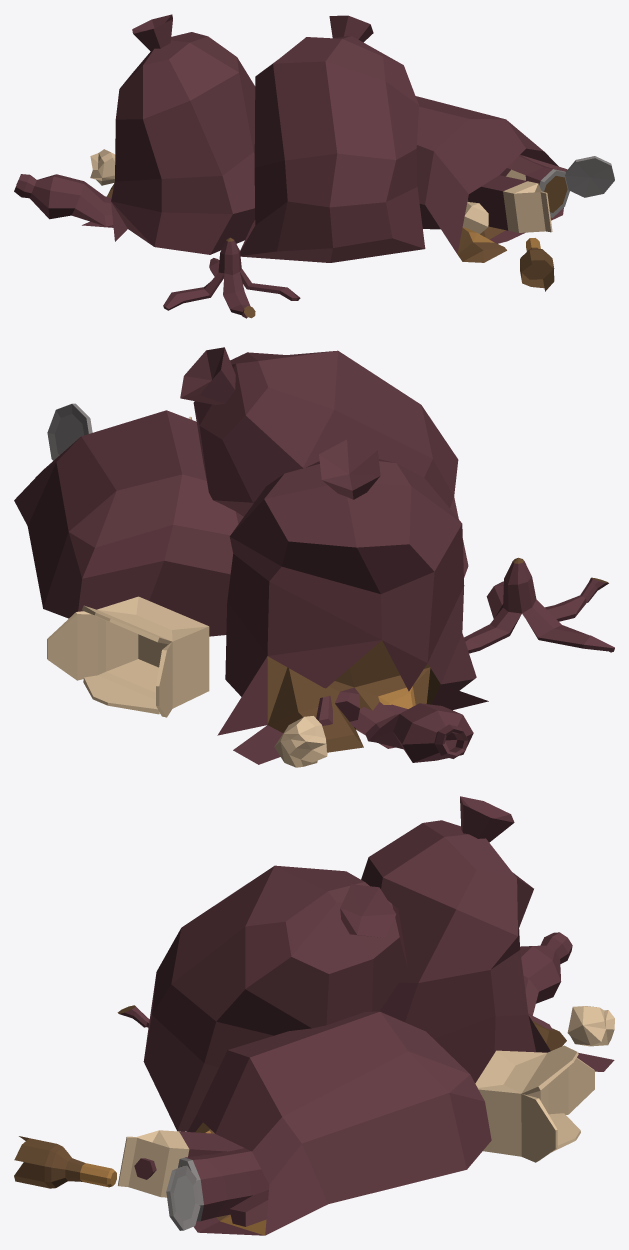
Rendered from garbage-pile.fbx.
The picture shows the model from 3 angles, top to bottom: view 1: azimuth 30°, elevation 25°; view 2: azimuth 150°, elevation 25°; view 3: azimuth 270°, elevation 25°; orthographic projection. The views are drawn at different scales.
Visible parts, largest first — view 1: garbage-pile; view 2: garbage-pile; view 3: garbage-pile.
Part boxes in pixels (x1,y1,x2,y2): garbage-pile: (14, 14, 614, 318); garbage-pile: (14, 347, 614, 767); garbage-pile: (14, 796, 614, 1235).
Bounding box in the file's own units: 1.26 × 0.5378 × 1.12.
